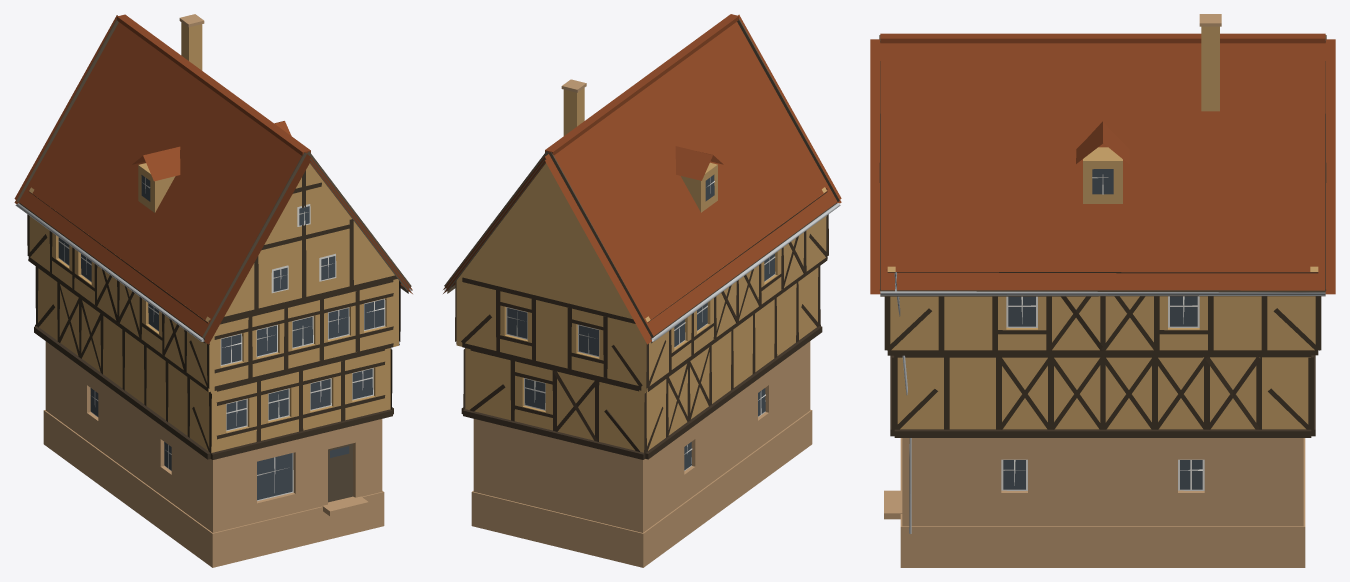
The model's file is oldtown-gable-3-lod1.glb.
3 renders of one model, left to right at view 1: azimuth 30°, elevation 25°; view 2: azimuth 150°, elevation 25°; view 3: azimuth 270°, elevation 25°, orthographic. The views are drawn at different scales.
Visible parts, largest first — view 1: oldtown-gable-3-plaster.001; view 2: oldtown-gable-3-plaster.001; view 3: oldtown-gable-3-plaster.001.
Part boxes in pixels (x1,y1,x2,y2): oldtown-gable-3-plaster.001: (14,14,412,567); oldtown-gable-3-plaster.001: (443,14,841,567); oldtown-gable-3-plaster.001: (870,14,1335,567).
Bounding box in the file's own units: 8.73 × 16.91 × 13.92.
